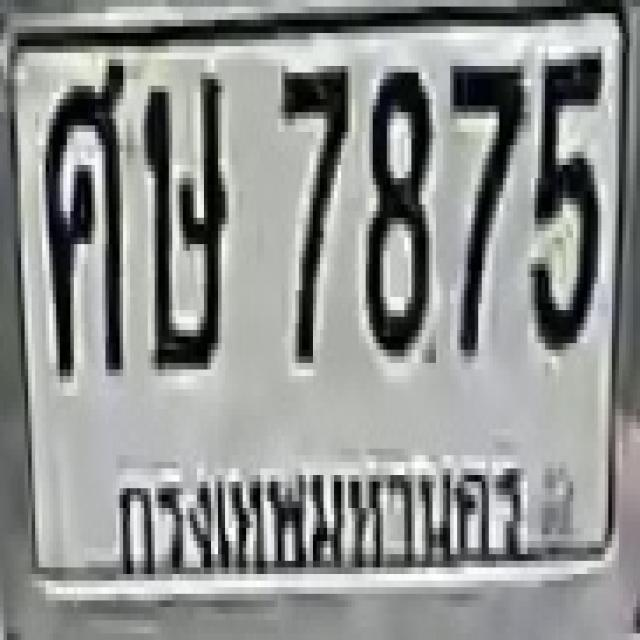5: (527, 50, 598, 346)
7: (446, 59, 520, 350), (276, 60, 346, 356)
8: (362, 66, 429, 350)
A38: (42, 53, 123, 369)
A39: (141, 66, 225, 363)
BKK: (111, 461, 526, 573)
